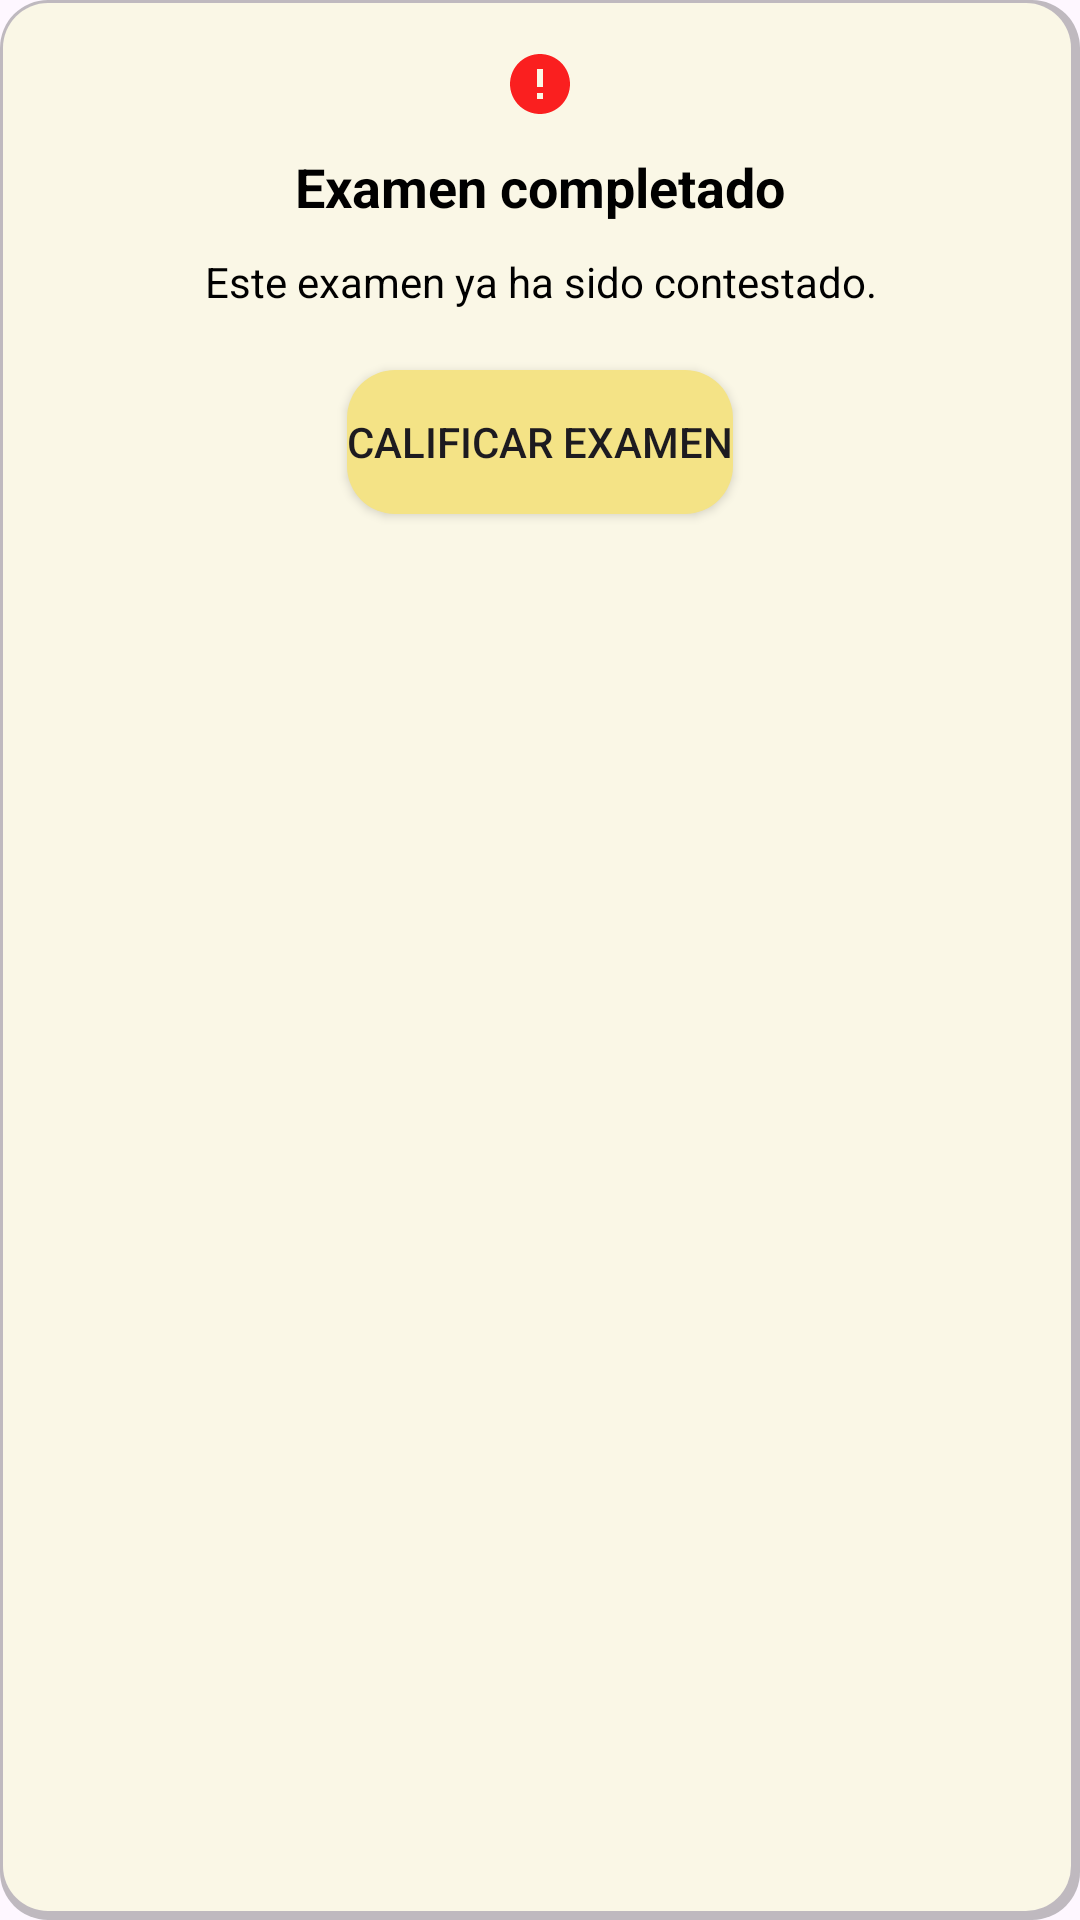

Where icons sit on this 1080w x 1920h app screen, as (x1, y1, x2, y2):
error: (510, 54, 570, 114)
